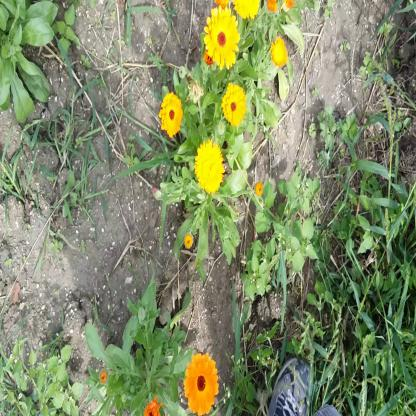marigold: (204, 13, 240, 68), (185, 352, 217, 411), (196, 139, 223, 191), (222, 82, 247, 125), (161, 93, 183, 134), (271, 37, 288, 67)
